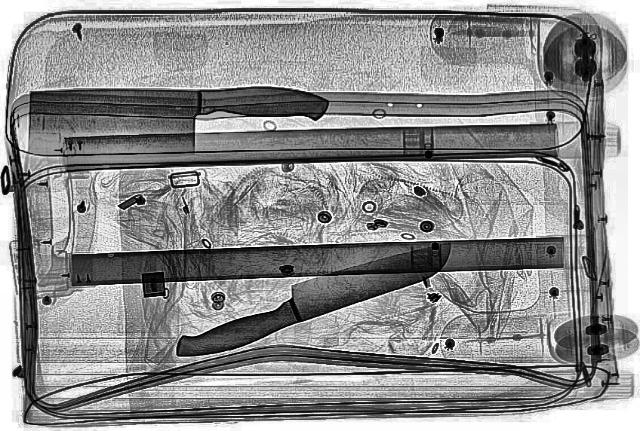Knife: (152, 224, 470, 374), (22, 78, 332, 166)
